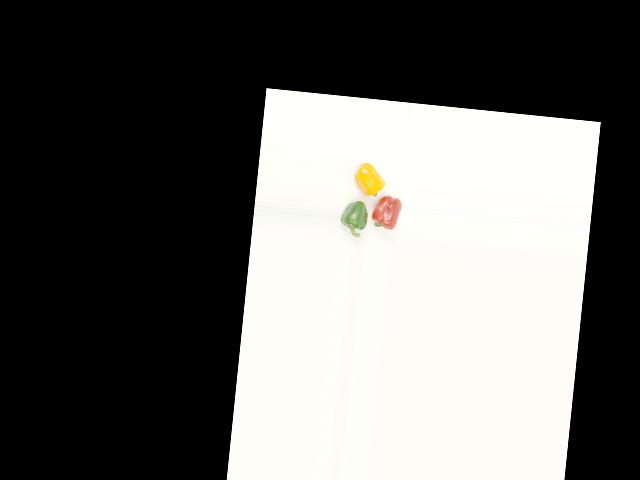bell_pepper: (338, 198, 370, 239)
